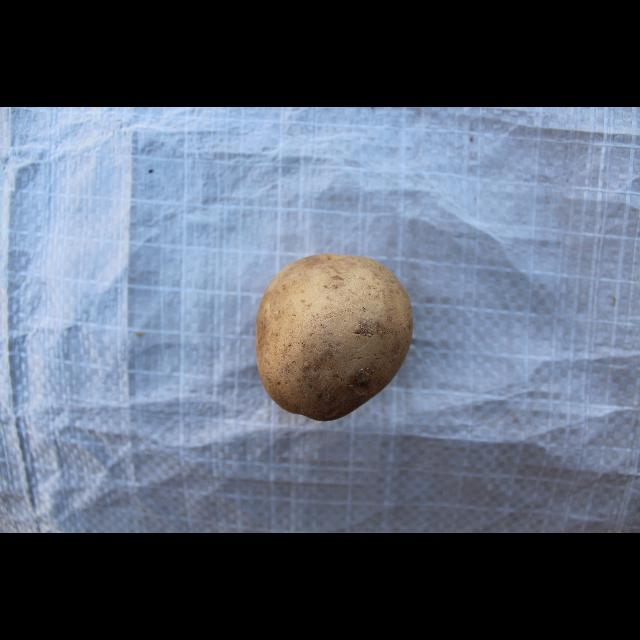Diseased-fungal potato: (251, 253, 414, 422)
